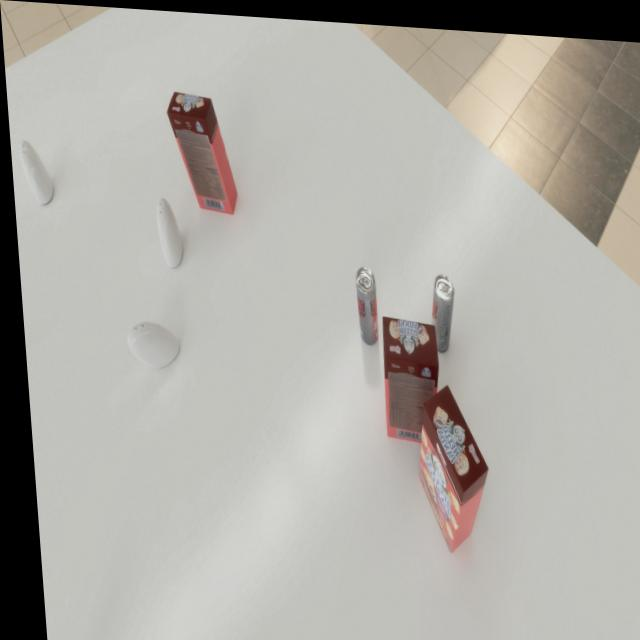HelloPanda: (407, 377, 487, 550), (164, 89, 236, 212), (374, 311, 438, 440)
Rita_zero_sugar: (422, 268, 454, 348), (351, 262, 375, 342)
Salt: (121, 319, 176, 368), (17, 140, 51, 205), (153, 195, 180, 266)
